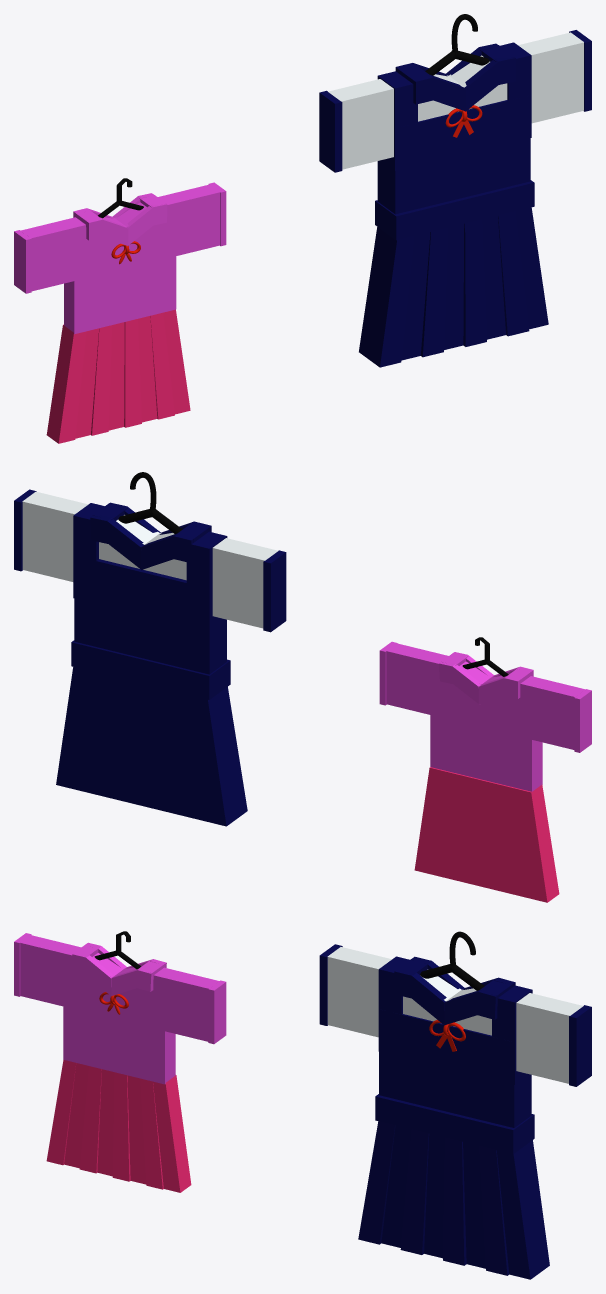
The model's file is Uniforme(preescolar_y_primaria.fbx.
3 views of the same model, one above another, from view 1: azimuth 30°, elevation 25°; view 2: azimuth 150°, elevation 25°; view 3: azimuth 330°, elevation 25° (orthographic).
Parts seen in each view (by area): view 1: Cube.033, Cube.003; view 2: Cube.033, Cube.003; view 3: Cube.033, Cube.003.
Boxes of the visible parts, <box> form: Cube.033: <box>319,30,591,367</box>; Cube.003: <box>14,178,226,443</box>; Cube.033: <box>14,489,286,826</box>; Cube.003: <box>379,637,591,902</box>; Cube.033: <box>319,944,591,1279</box>; Cube.003: <box>14,931,226,1192</box>.
Bounding box in the file's own units: 1109 × 612 × 75.54.
